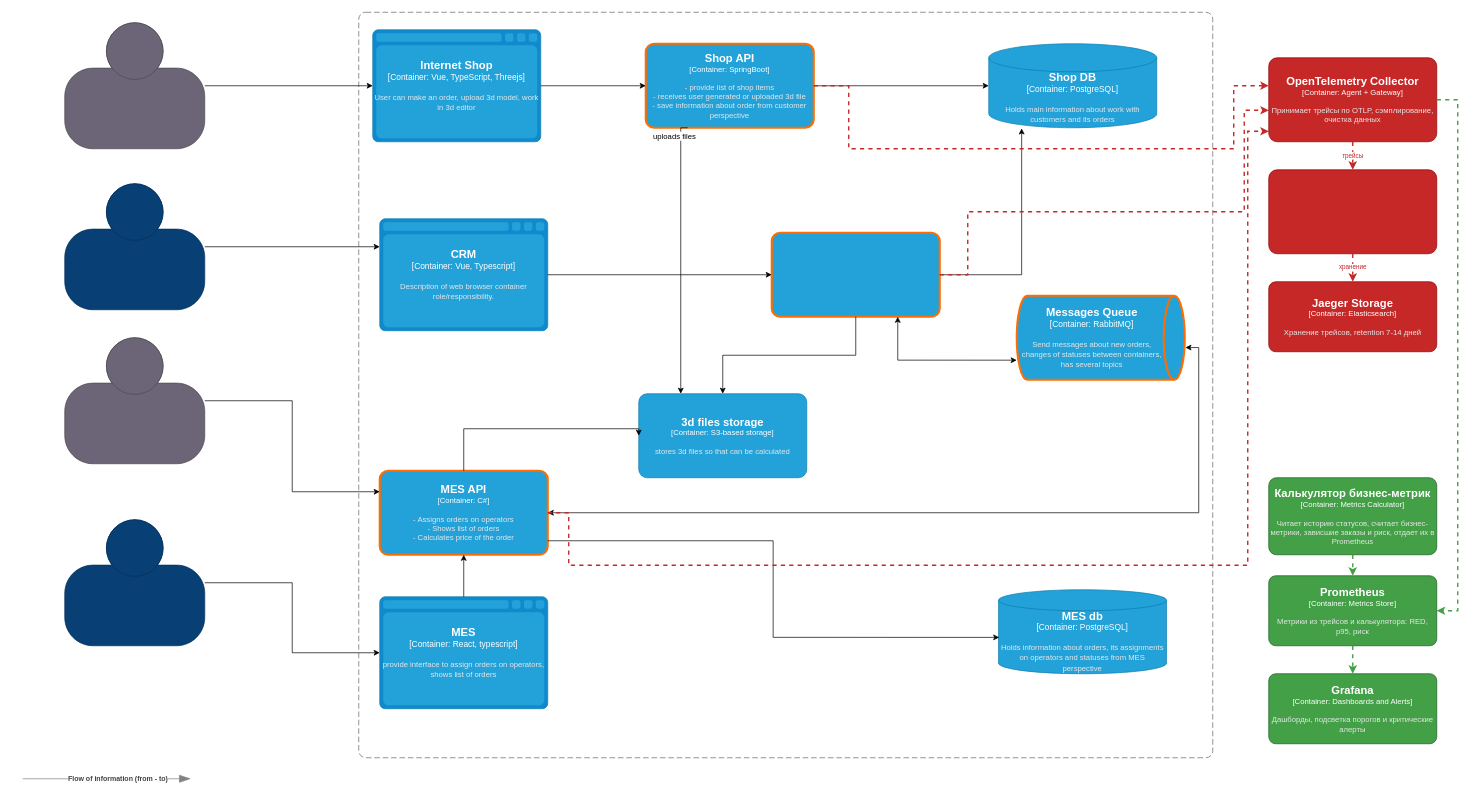
Image size: 1476x802. Some labels were removed from this diagram. Each missing label, with the box of its shape:
API user [Person] Description of external person.: (64, 337, 205, 464)
CRM API [Container: SpringBoot] Description of container role/responsibility.: (770, 231, 940, 317)
Customer [Person] Description of external person.: (64, 22, 205, 149)
Jaeger [Container: Tracing UI / Backend] Поиск, просмотр и разбор трейсов заказа: (1268, 169, 1437, 254)
Jewerly Store System [Software System]: (358, 12, 1213, 758)
Operator [Person] Takes order in work, manufactures jewerly: (64, 519, 205, 646)
Seller [Person] Operates with order, confirms manufacturing for the user: (64, 183, 205, 310)
